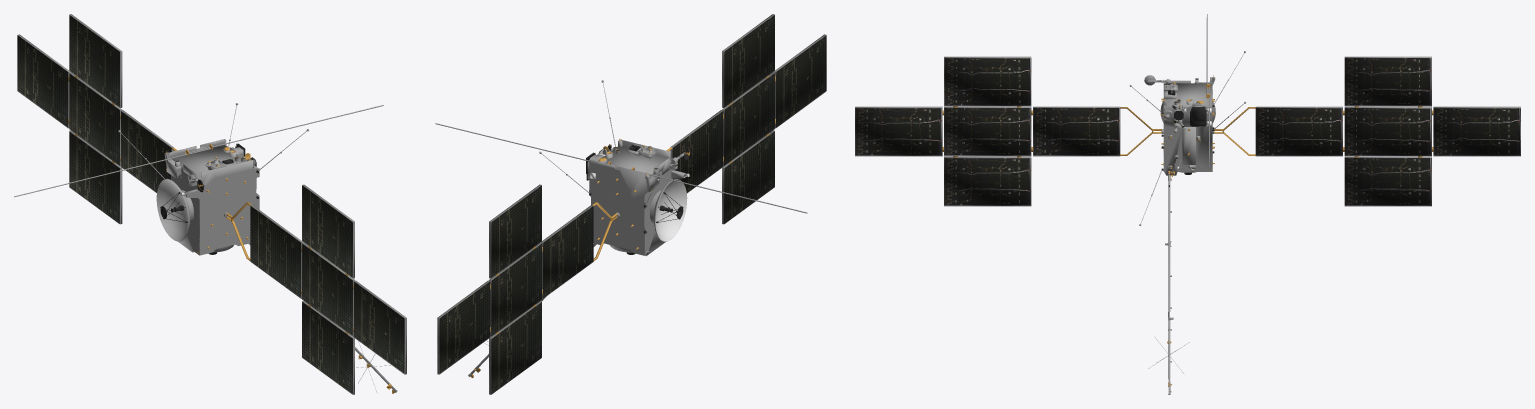
The model's file is juice.glb.
The picture shows the model from 3 angles, left to right: view 1: azimuth 30°, elevation 25°; view 2: azimuth 150°, elevation 25°; view 3: azimuth 270°, elevation 25°; orthographic projection. The views are drawn at different scales.
Visible parts, largest first — view 1: juice_uv; view 2: juice_uv; view 3: juice_uv.
Part boxes in pixels (x1,y1,x2,y2): juice_uv: [14, 14, 406, 394]; juice_uv: [435, 14, 826, 394]; juice_uv: [855, 14, 1520, 394].
Bounding box in the file's own units: 663 × 528 × 1199.
1 material, 1 textured.
